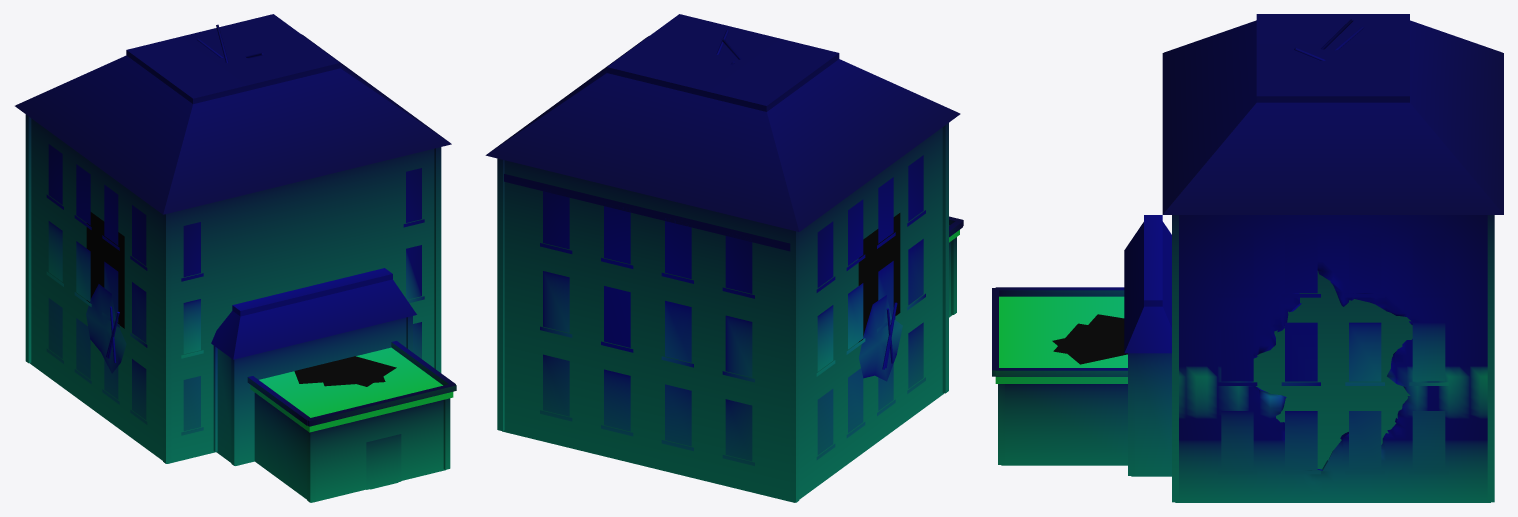
File: s_main_rightwing_damaged.glb
3 renders of one model, left to right at view 1: azimuth 30°, elevation 25°; view 2: azimuth 150°, elevation 25°; view 3: azimuth 270°, elevation 25°, orthographic. The views are drawn at different scales.
Parts seen in each view (by area): view 1: lod0; view 2: lod0; view 3: lod0.
Boxes of the visible parts, bbox=[...] form: lod0: bbox=[15, 14, 456, 502]; lod0: bbox=[485, 14, 963, 502]; lod0: bbox=[992, 14, 1503, 502].
Size of what is drawn, in the model's own units: 16.5 by 19.22 by 22.05.
